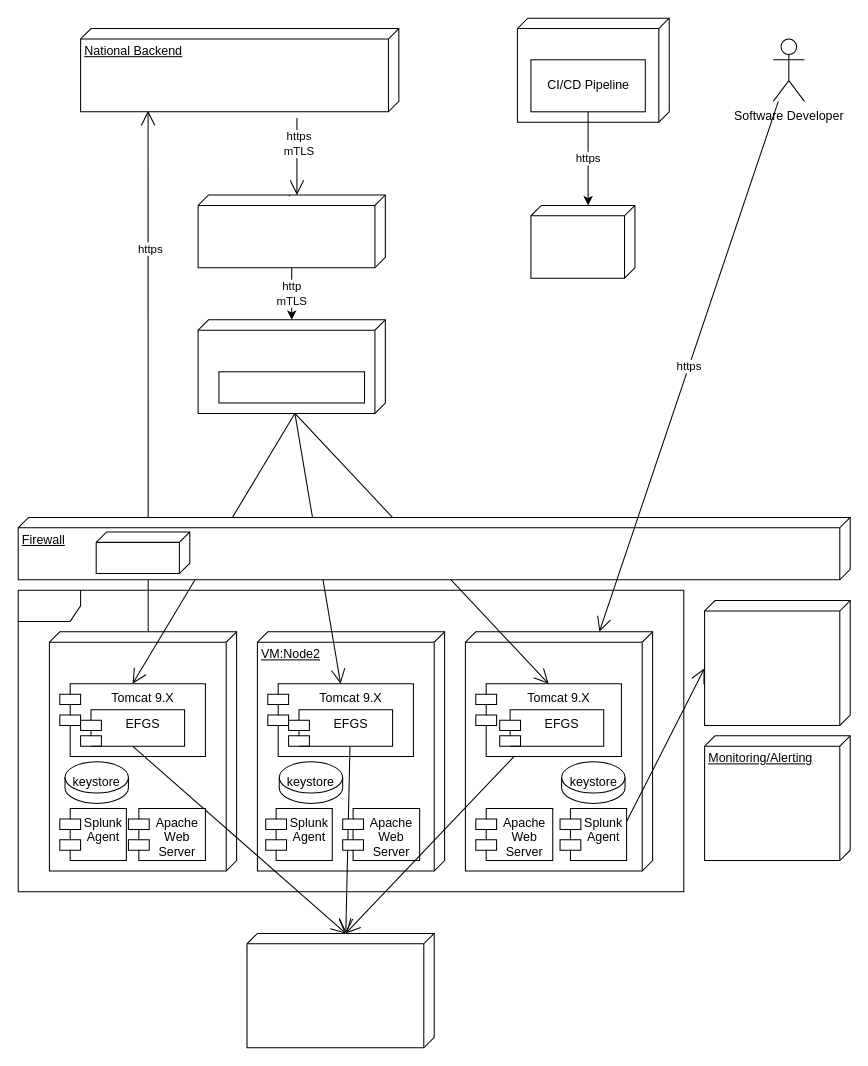
This 868x1066 diagram has some shape labels left out. The shapes that lost their labels are listed below. From the top down, each one's box as (x1, y1, x2, y2) in pixels, then its label:
(516, 17, 669, 122): github.com
(197, 194, 385, 268): Reverse Proxy: BlueCoat
(530, 204, 635, 278): Artifact Repository
(197, 319, 385, 413): LoadBalancer <<F5>>
(218, 371, 365, 403): TLS Server private Key
(95, 531, 190, 574): HTTP Proxy
(704, 600, 850, 725): Splunk:LogAnalytics
(48, 631, 237, 871): VM:Node1
(17, 589, 684, 892): worker nodes
(464, 631, 653, 871): VM:Node3
(246, 932, 434, 1048): mySQL: EFGSdb
